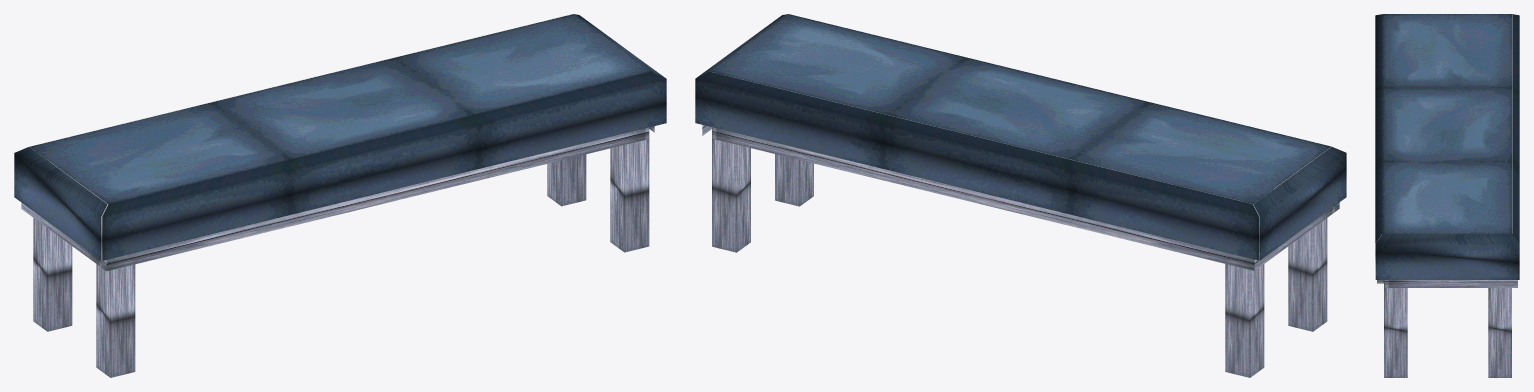
File: LIBRARY FURN Bench Seat A.fbx
3 views of the same model, side by side, from view 1: azimuth 30°, elevation 25°; view 2: azimuth 150°, elevation 25°; view 3: azimuth 270°, elevation 25° (orthographic). The views are drawn at different scales.
Parts seen in each view (by area): view 1: LIBRARY FURN Bench Seat A; view 2: LIBRARY FURN Bench Seat A; view 3: LIBRARY FURN Bench Seat A.
Boxes of the visible parts, <box> form: LIBRARY FURN Bench Seat A: <box>14,14,666,377</box>; LIBRARY FURN Bench Seat A: <box>695,14,1346,377</box>; LIBRARY FURN Bench Seat A: <box>1375,14,1519,377</box>.
Bounding box in the file's own units: 184 × 54.59 × 49.22.
